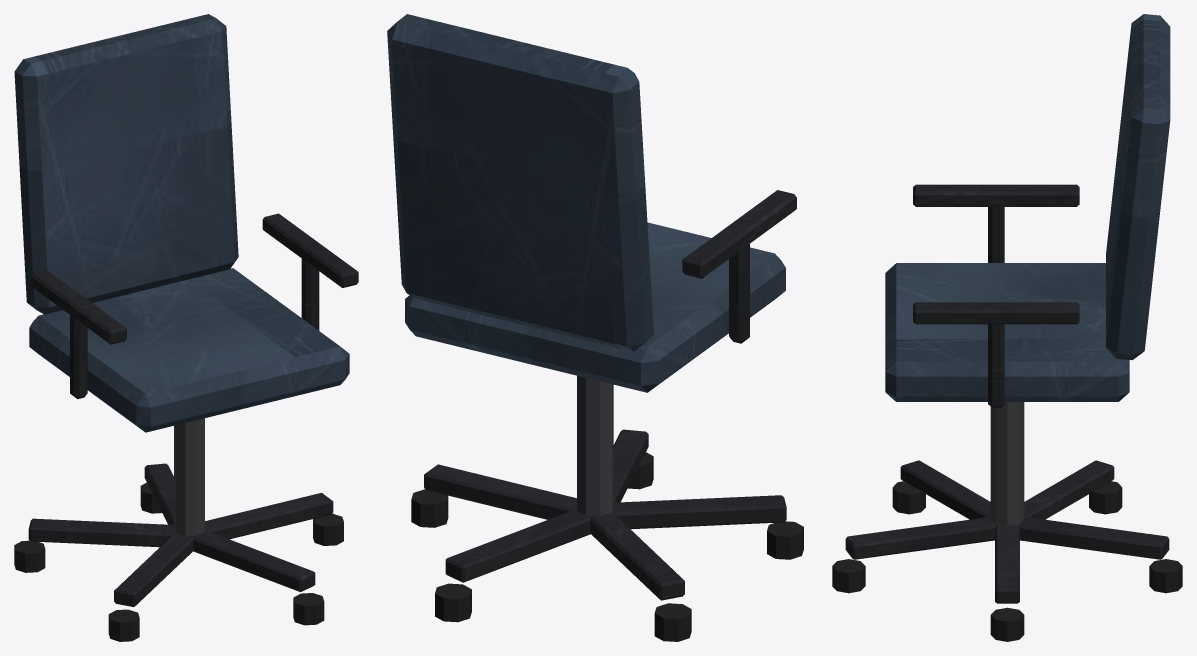
The model's file is chair_office.glb.
3 views of the same model, side by side, from view 1: azimuth 30°, elevation 25°; view 2: azimuth 150°, elevation 25°; view 3: azimuth 270°, elevation 25° (orthographic). The views are drawn at different scales.
Parts seen in each view (by area): view 1: body; view 2: body; view 3: body.
Part boxes in pixels (x1,y1,x2,y2): body: [14, 14, 358, 641]; body: [387, 14, 803, 641]; body: [832, 14, 1182, 641].
Size of the model in its own units: 0.6027 by 0.999 by 0.6306.
4 materials, 4 textured.
